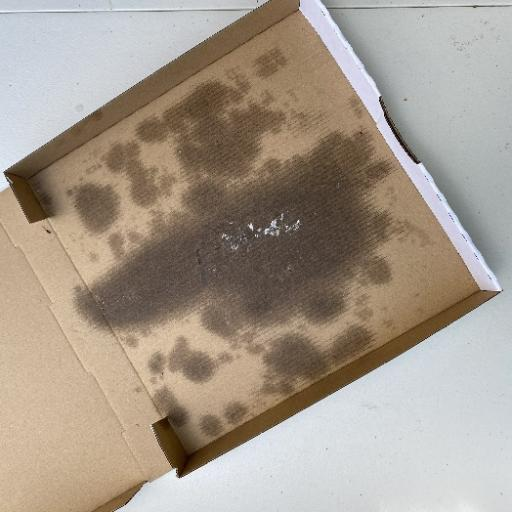Cardboard: (2, 1, 503, 506)
